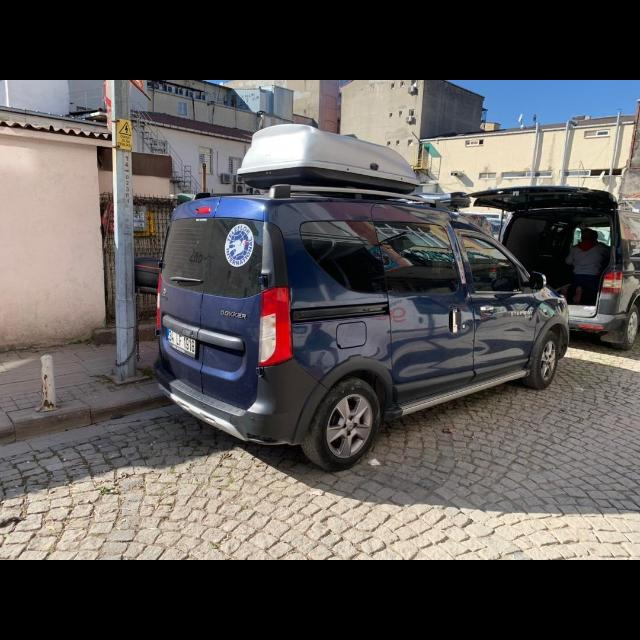Plaka: (167, 328, 196, 354)
